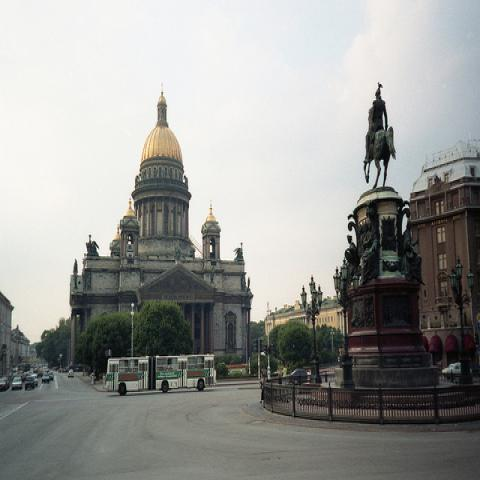bus: (105, 354, 216, 393)
car: (9, 359, 49, 380), (442, 362, 472, 378), (287, 368, 310, 385), (24, 376, 34, 391), (12, 376, 22, 390), (0, 377, 10, 391), (30, 374, 38, 388), (22, 372, 31, 382), (42, 373, 50, 384), (42, 374, 50, 384), (48, 370, 55, 381), (68, 368, 74, 378), (37, 370, 43, 378), (33, 367, 39, 373)
